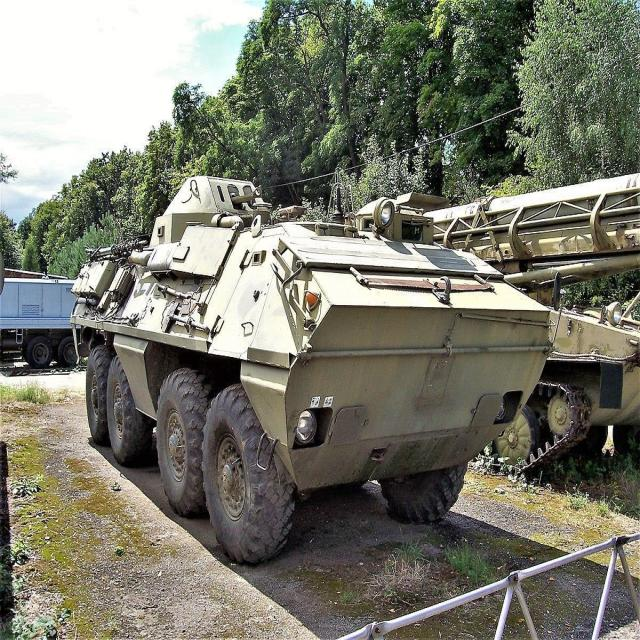Tanks: (79, 175, 526, 541), (458, 192, 632, 480)
